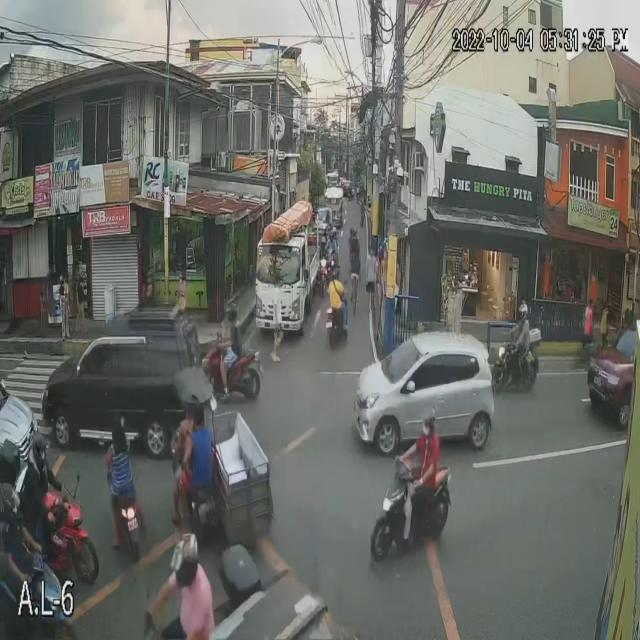full: (168, 531, 201, 590), (30, 437, 50, 469), (518, 301, 530, 324), (225, 305, 238, 324)
half: (422, 406, 437, 439)
not_wearing: (111, 414, 124, 447)
